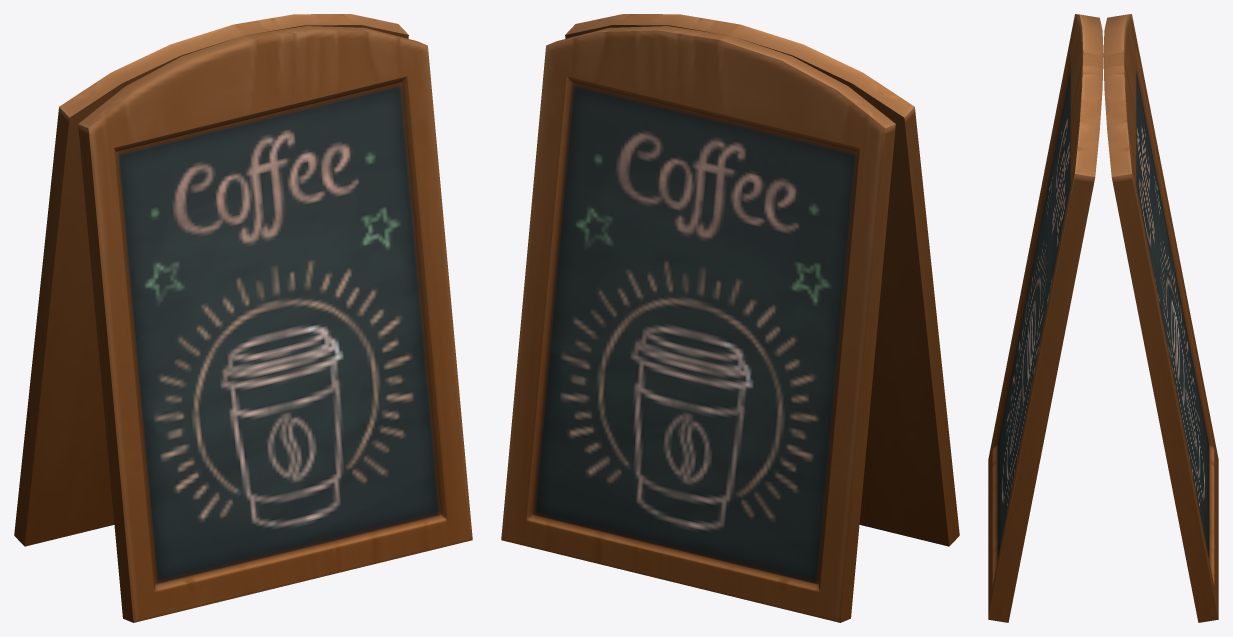
The model's file is Chalk_board.FBX.
The picture shows the model from 3 angles, left to right: view 1: azimuth 30°, elevation 25°; view 2: azimuth 150°, elevation 25°; view 3: azimuth 270°, elevation 25°; orthographic projection. The views are drawn at different scales.
Parts seen in each view (by area): view 1: Chalk_board; view 2: Chalk_board; view 3: Chalk_board.
Part boxes in pixels (x1,y1,x2,y2): Chalk_board: (14, 14, 472, 622); Chalk_board: (501, 14, 959, 622); Chalk_board: (988, 14, 1218, 622).
Bounding box in the file's own units: 106 × 152 × 64.47.
